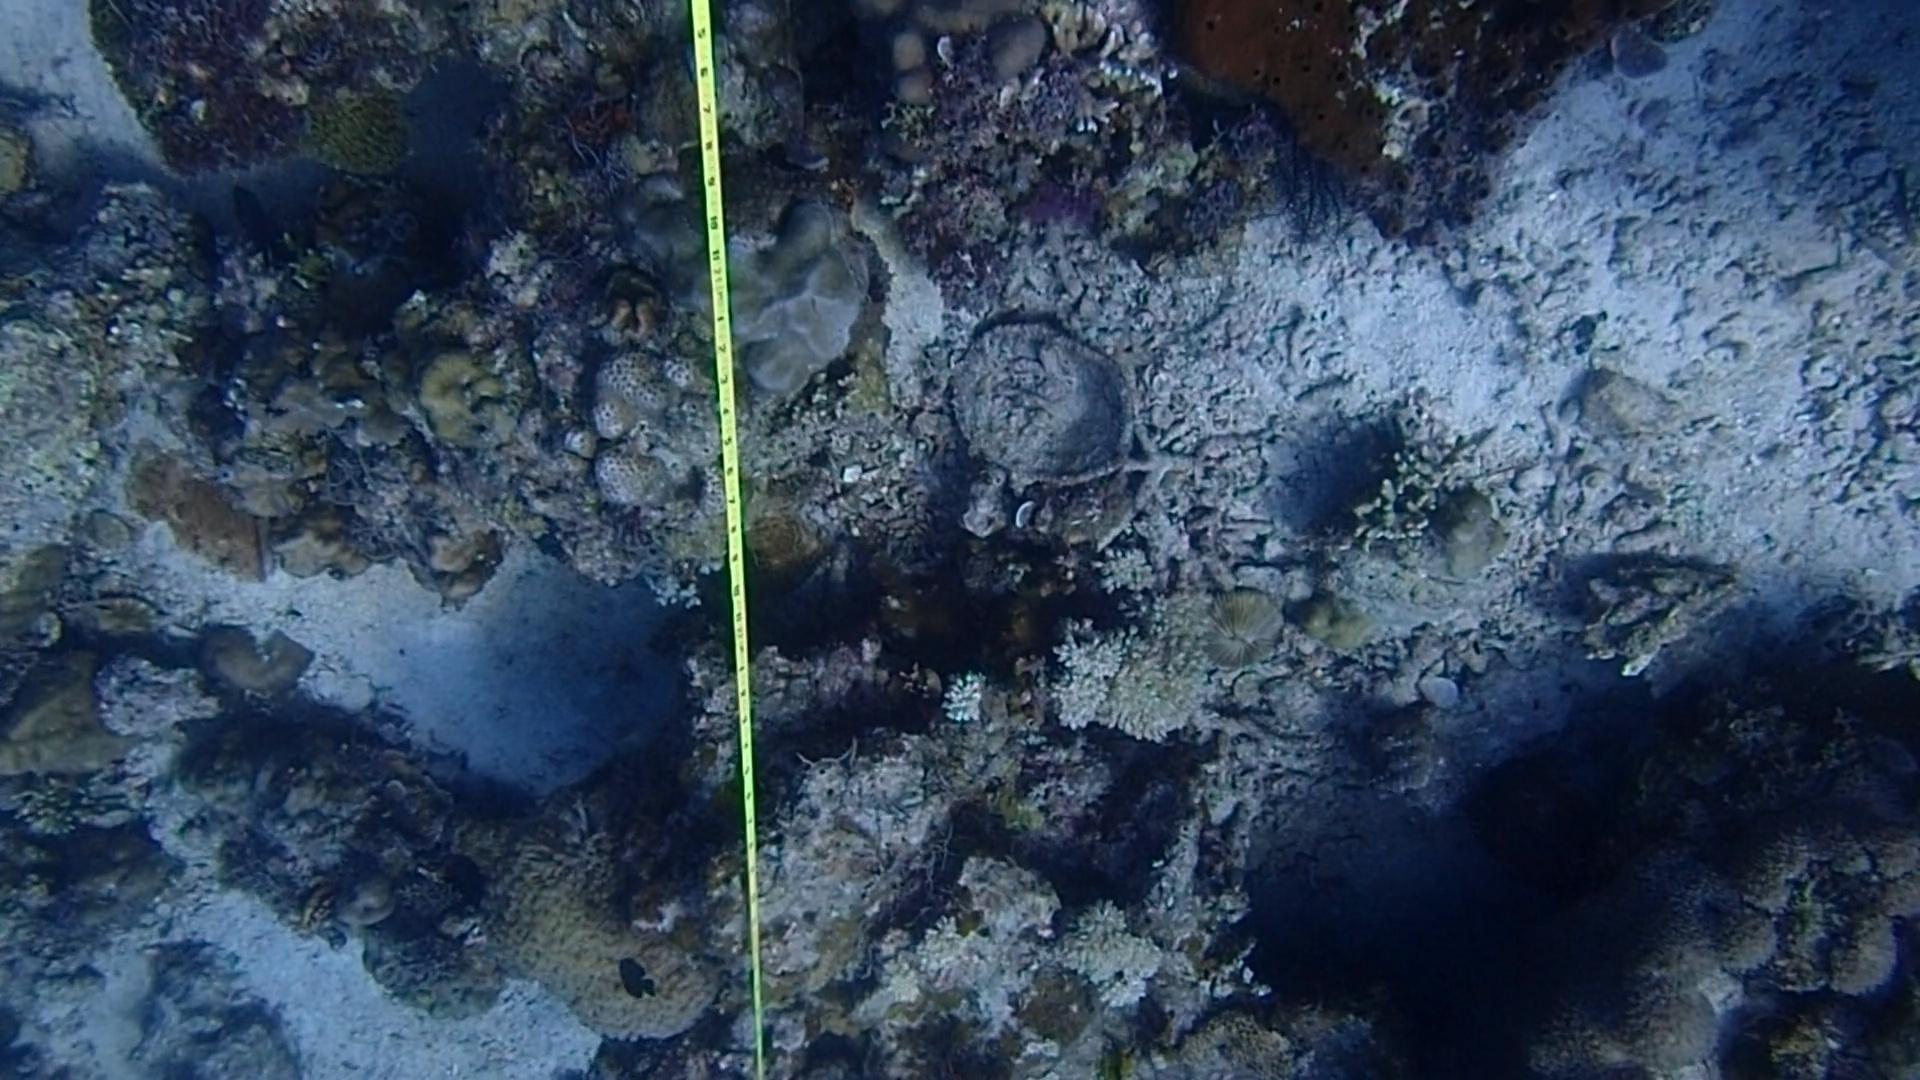Dark Fish: (429, 841, 514, 919), (227, 181, 284, 269), (608, 952, 665, 1010)
